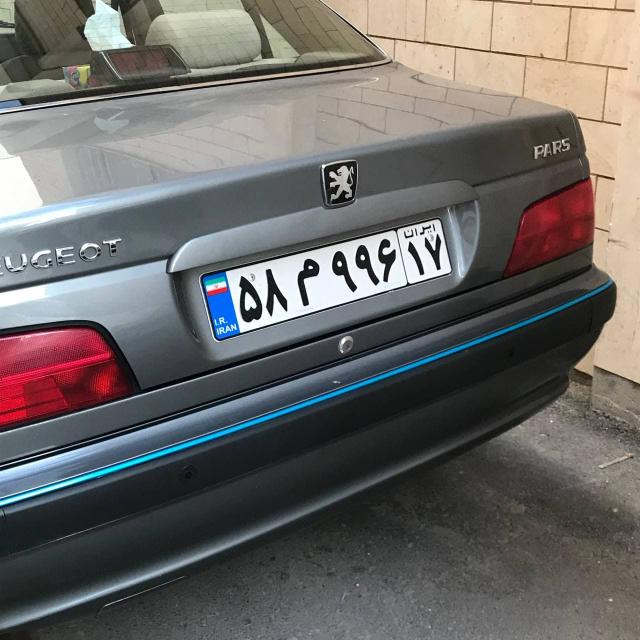Plates: (197, 207, 456, 342)
